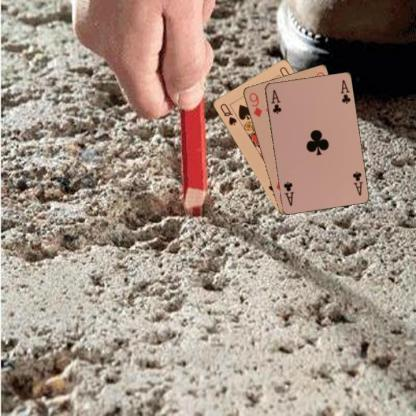9d: (246, 90, 263, 119)
Ac: (268, 87, 283, 115), (350, 169, 364, 197)
Qs: (218, 100, 238, 126)
